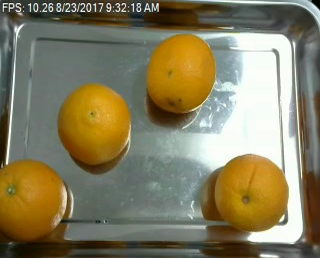Orange: (56, 83, 131, 165), (213, 152, 289, 232), (145, 33, 216, 112), (1, 160, 68, 240)
